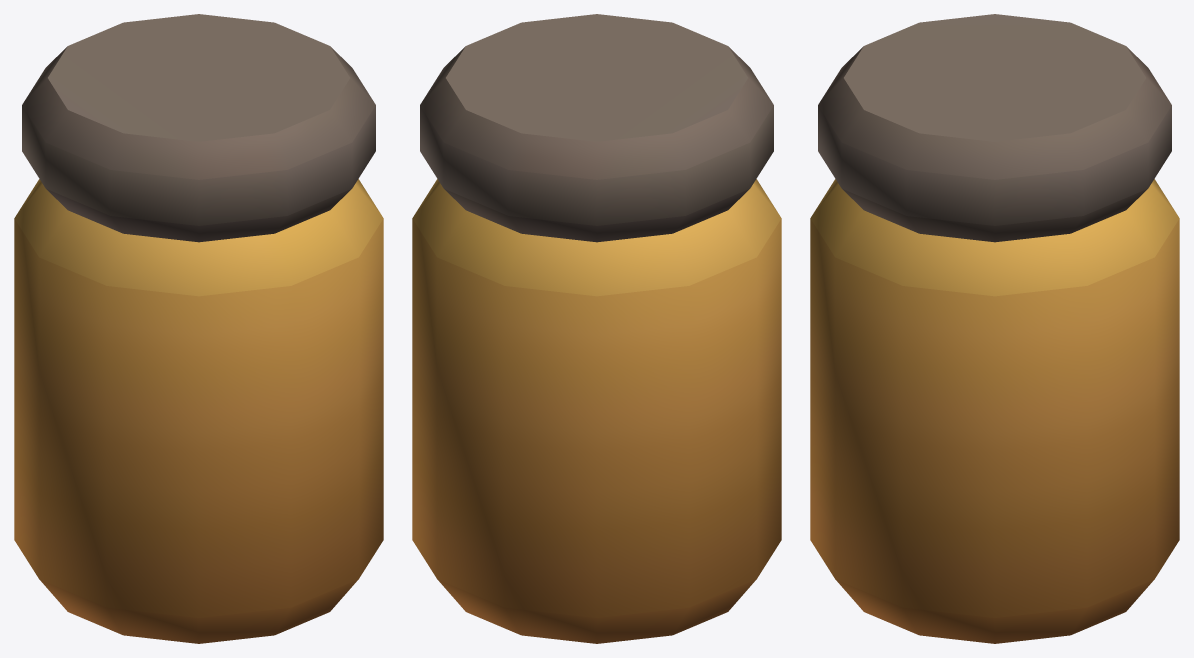
Rendered from kay-pote-d.gltf.
The picture shows the model from 3 angles, left to right: view 1: azimuth 30°, elevation 25°; view 2: azimuth 150°, elevation 25°; view 3: azimuth 270°, elevation 25°; orthographic projection.
Visible parts, largest first — view 1: jar_D_large; view 2: jar_D_large; view 3: jar_D_large.
Boxes of the visible parts, <box> form: jar_D_large: <box>14,14,383,643</box>; jar_D_large: <box>412,14,781,643</box>; jar_D_large: <box>810,14,1179,643</box>.
Bounding box in the file's own units: 0.325 × 0.4875 × 0.325.
1 material, 1 textured.
